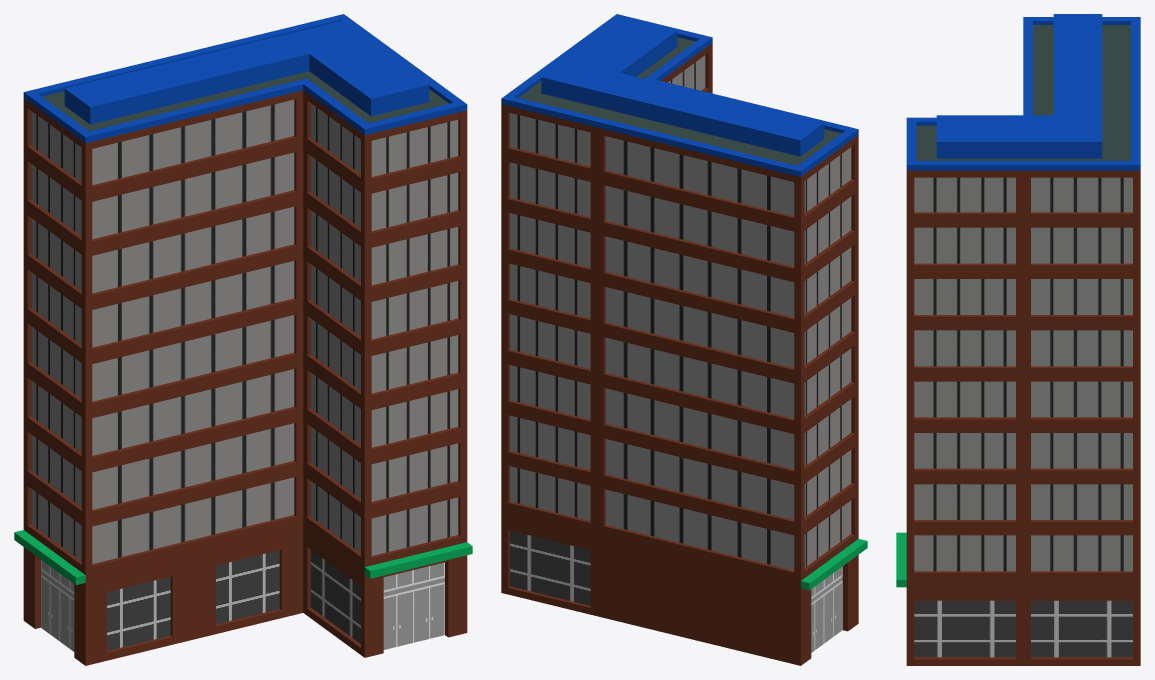
Rendered from building21b.FBX.
3 renders of one model, left to right at view 1: azimuth 30°, elevation 25°; view 2: azimuth 150°, elevation 25°; view 3: azimuth 270°, elevation 25°, orthographic. The views are drawn at different scales.
Parts seen in each view (by area): view 1: building21b; view 2: building21b; view 3: building21b.
Boxes of the visible parts, <box> form: building21b: <box>14,14,472,665</box>; building21b: <box>501,14,867,665</box>; building21b: <box>896,14,1140,665</box>.
Size of the model in its own units: 30.84 by 48.46 by 20.88.
